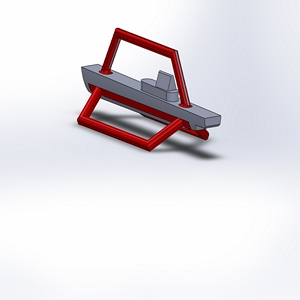submarine: (60, 17, 240, 170)
